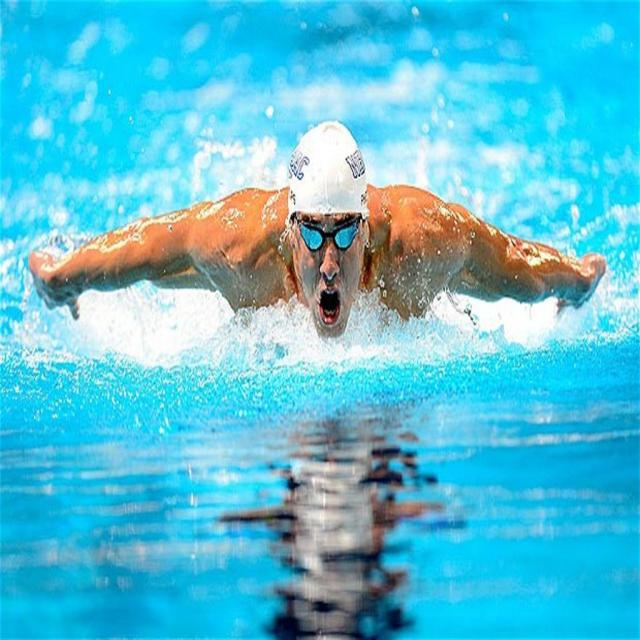nomask: (302, 185, 362, 334)
